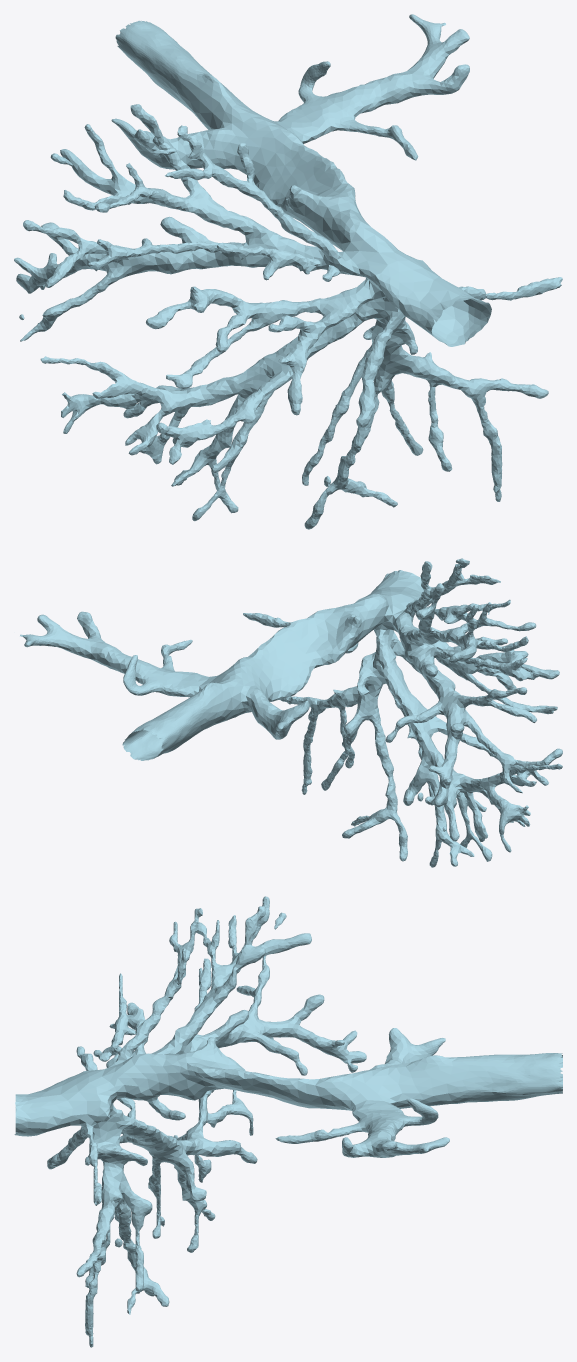
Rendered from venacava.obj.
The picture shows the model from 3 angles, top to bottom: view 1: azimuth 30°, elevation 25°; view 2: azimuth 150°, elevation 25°; view 3: azimuth 270°, elevation 25°; orthographic projection. The views are drawn at different scales.
Parts seen in each view (by area): view 1: grp1; view 2: grp1; view 3: grp1.
Boxes of the visible parts, <box> form: grp1: <box>14,14,562,529</box>; grp1: <box>20,558,562,867</box>; grp1: <box>14,896,562,1347</box>.
Bounding box in the file's own units: 199 × 146 × 209.
